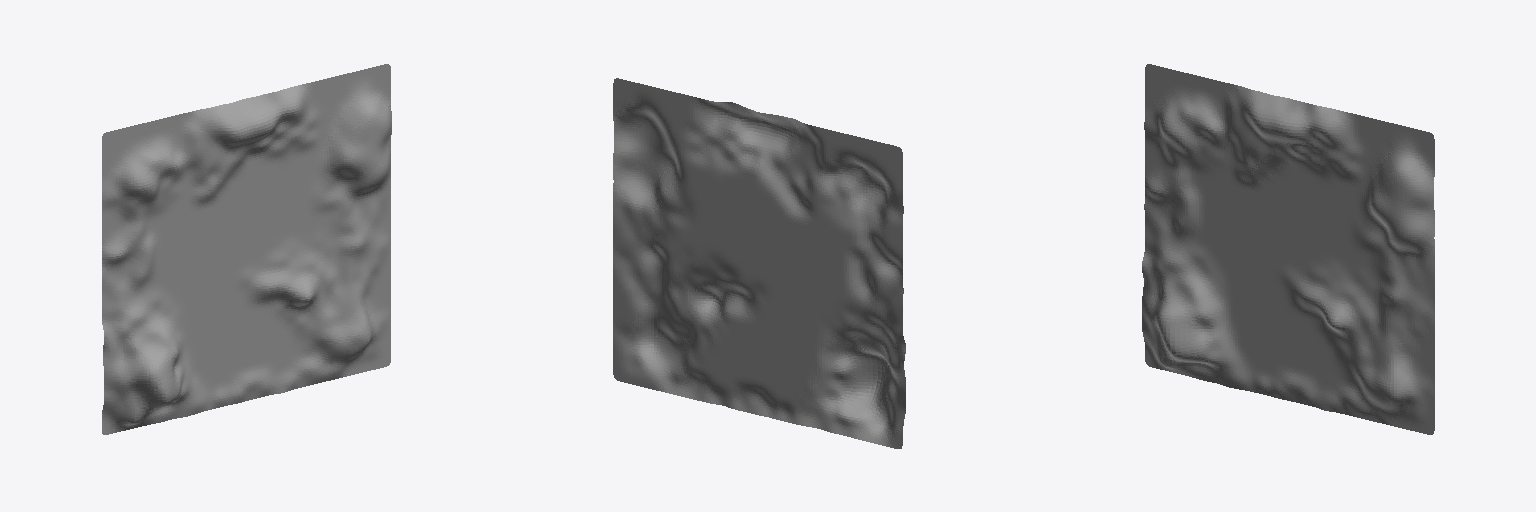
The model's file is terrain.OBJ.
3 renders of one model, left to right at view 1: azimuth 30°, elevation 25°; view 2: azimuth 150°, elevation 25°; view 3: azimuth 330°, elevation 25°, orthographic.
Parts seen in each view (by area): view 1: terrain_Plane; view 2: terrain_Plane; view 3: terrain_Plane.
Boxes of the visible parts, <box> form: terrain_Plane: <box>102,64,391,434</box>; terrain_Plane: <box>613,78,905,448</box>; terrain_Plane: <box>1142,64,1434,434</box>.
Size of the model in its own units: 67.05 by 67.27 by 7.82.